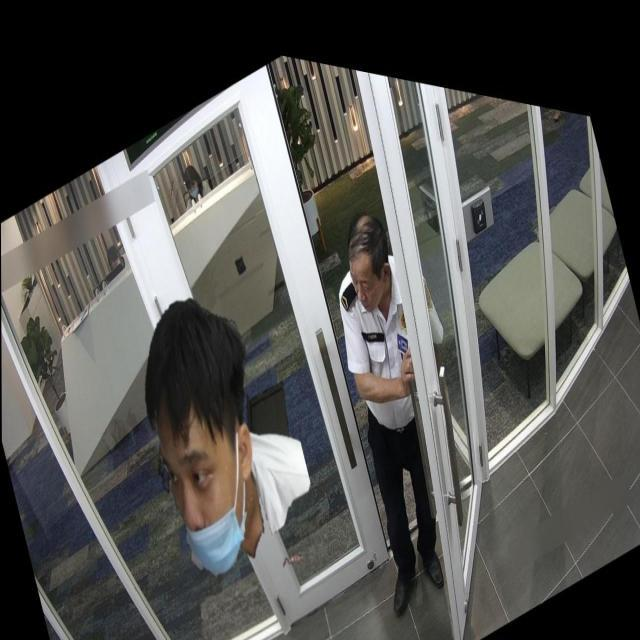hairnet: (163, 398, 255, 588)
